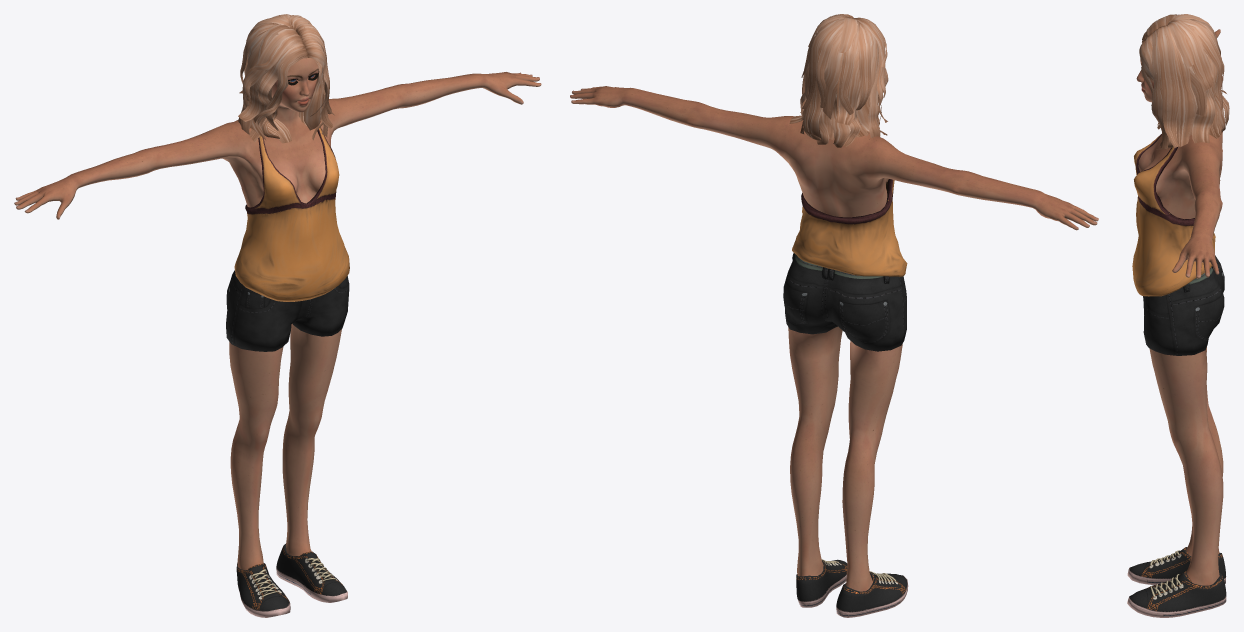
Rendered from IrisModel.obj.
3 views of the same model, side by side, from view 1: azimuth 30°, elevation 25°; view 2: azimuth 150°, elevation 25°; view 3: azimuth 270°, elevation 25° (orthographic).
Parts seen in each view (by area): view 1: Body, Tops, Hair, Bottoms, Shoes; view 2: Body, Hair, Bottoms, Tops, Shoes; view 3: Body, Hair, Tops, Bottoms, Shoes.
Part boxes in pixels (<box>): Body: <box>14,58,541,570</box>; Tops: <box>234,127,349,301</box>; Hair: <box>238,14,334,143</box>; Bottoms: <box>226,270,349,351</box>; Shoes: <box>236,544,347,617</box>; Body: <box>570,86,1098,591</box>; Hair: <box>789,14,888,147</box>; Bottoms: <box>783,253,906,351</box>; Tops: <box>792,179,907,276</box>; Shoes: <box>796,559,908,617</box>; Body: <box>1136,29,1223,585</box>; Hair: <box>1139,14,1229,149</box>; Tops: <box>1132,134,1215,296</box>; Bottoms: <box>1143,255,1224,355</box>; Shoes: <box>1127,547,1226,617</box>.
Size of the model in its own units: 167 by 177 by 28.28.
5 materials, 5 textured.
